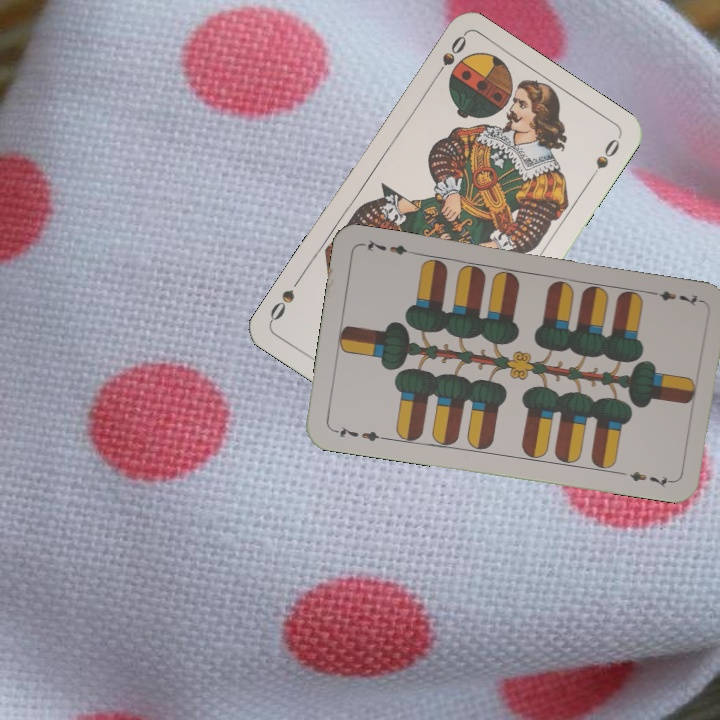E7: (643, 286, 702, 309), (329, 422, 388, 444)
SO: (429, 31, 469, 84)
